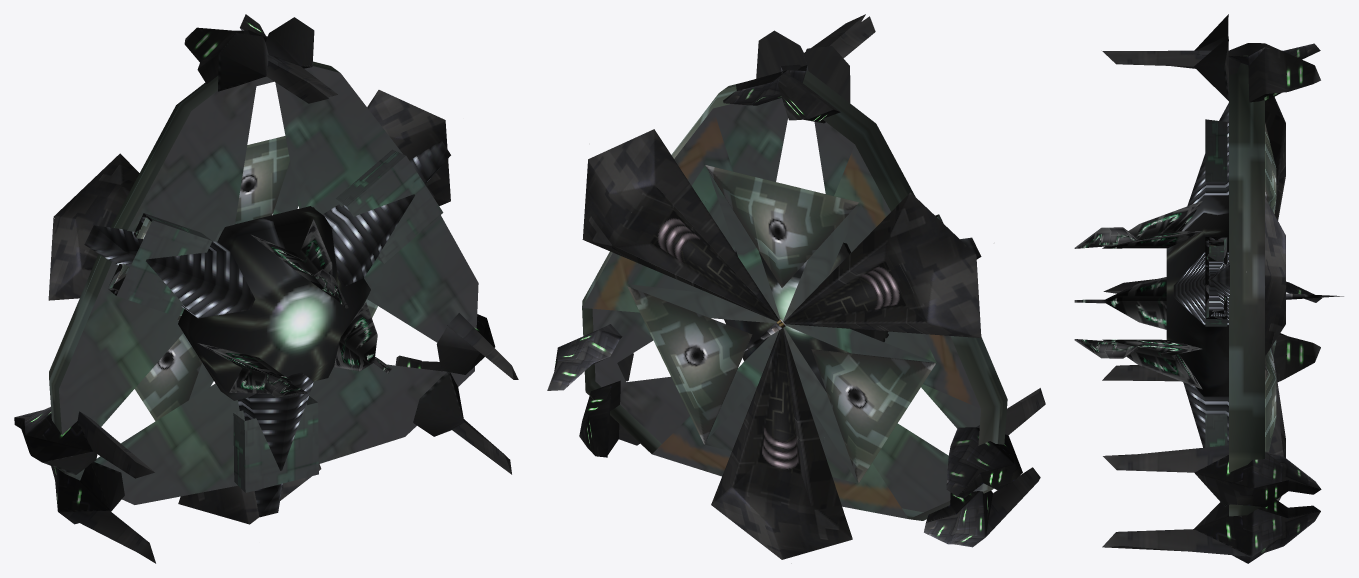
The picture shows the model from 3 angles, left to right: view 1: azimuth 30°, elevation 25°; view 2: azimuth 150°, elevation 25°; view 3: azimuth 270°, elevation 25°; orthographic projection. The views are drawn at different scales.
Parts seen in each view (by area): view 1: frm-newrevolv, frm-extru63, frm-cube6, frm-revol11, frm-landing_bay_1, frm-cube9, frm-extru69_12, frm-extru69_3, frm-east_bay_11_6_1, frm-landing_bay_2, frm-extru69_8, frm-cube10 (+10 smaller); view 2: frm-newrevolv, frm-revol10, frm-revol8, frm-revol11, frm-cube11, frm-cube8, frm-cube12, frm-extru69_3, frm-extru69_12, frm-extru69_8, frm-extru69_11, frm-extru63 (+2 smaller); view 3: frm-newrevolv, frm-extru63, frm-extru69_9, frm-extru69_10, frm-extru69_11, frm-revol8, frm-cube9, frm-extru69_8, frm-extru75, frm-extru77, frm-extru79, frm-revol11 (+12 smaller).
Boxes of the visible parts, x1,y1,x2,y2 form: frm-newrevolv: (49, 61, 478, 504); frm-extru63: (178, 206, 370, 400); frm-cube6: (84, 225, 255, 318); frm-revol11: (48, 153, 139, 300); frm-landing_bay_1: (335, 149, 443, 263); frm-cube9: (322, 140, 450, 287); frm-extru69_12: (184, 27, 328, 103); frm-extru69_3: (14, 407, 154, 478); frm-east_bay_11_6_1: (233, 396, 318, 492); frm-landing_bay_2: (108, 213, 212, 316); frm-extru69_8: (51, 462, 155, 563); frm-cube10: (238, 372, 313, 517); frm-newrevolv: (582, 71, 1007, 520); frm-revol10: (711, 328, 852, 559); frm-revol8: (582, 129, 778, 321); frm-revol11: (783, 192, 981, 337); frm-cube11: (627, 286, 752, 444); frm-cube8: (705, 165, 858, 287); frm-cube12: (811, 349, 936, 482); frm-extru69_3: (946, 388, 1045, 497); frm-extru69_12: (778, 16, 875, 123); frm-extru69_8: (924, 467, 1040, 547); frm-extru69_11: (723, 14, 865, 105); frm-extru63: (724, 242, 888, 391); frm-newrevolv: (1229, 55, 1264, 516); frm-extru63: (1166, 195, 1228, 396); frm-extru69_9: (1102, 500, 1320, 563); frm-extru69_10: (1103, 445, 1321, 507); frm-extru69_11: (1102, 37, 1320, 102); frm-revol8: (1265, 197, 1285, 356); frm-cube9: (1173, 252, 1229, 325); frm-extru69_8: (1102, 333, 1320, 381); frm-extru75: (1102, 339, 1202, 389); frm-extru77: (1102, 277, 1166, 329); frm-extru79: (1102, 201, 1202, 248); frm-revol11: (1265, 97, 1285, 220).
Size of the model in its own units: 91.95 by 100 by 48.08.
